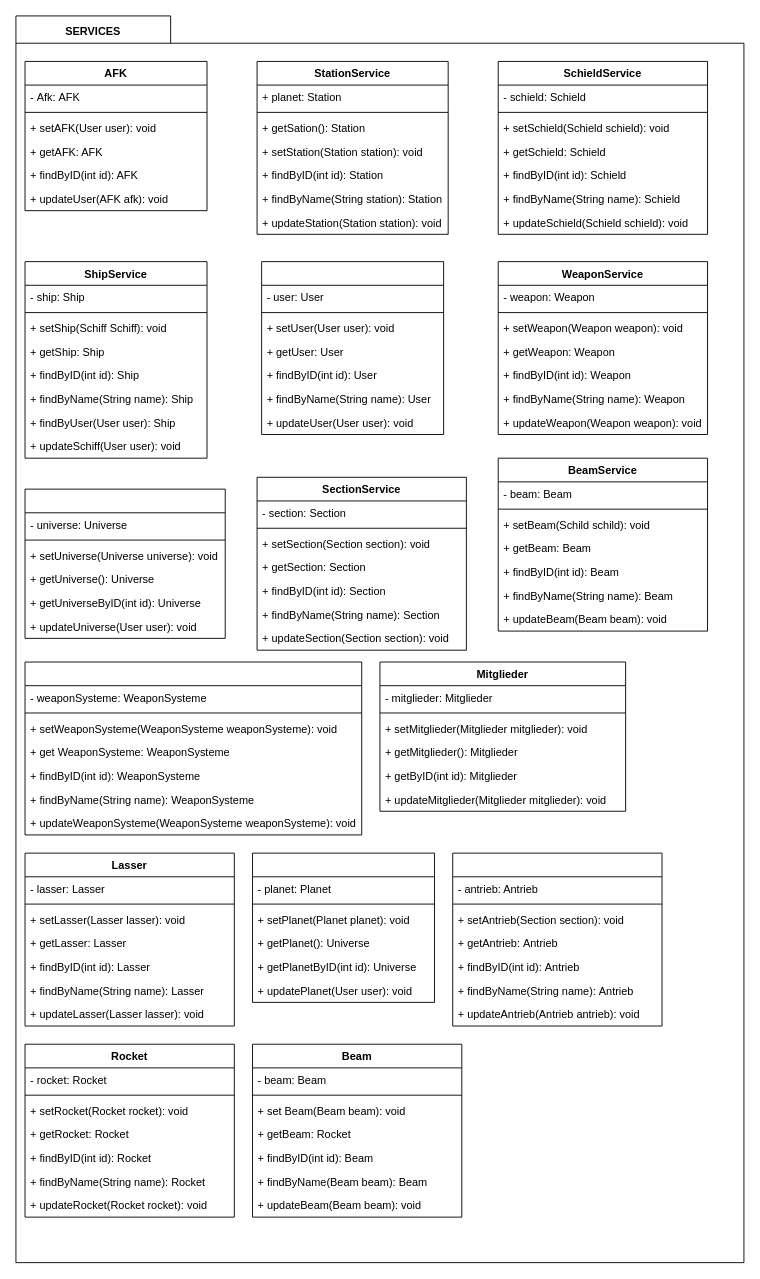
This 760x1279 diagram has some shape labels left out. The box of each missing label's shape, as (x1, y1, x2, y2) in pixels:
AntriebService: (452, 852, 662, 1026)
PlanetService: (252, 852, 435, 1002)
UniverseService: (24, 488, 225, 638)
UserService: (261, 261, 444, 435)
WeaponSystemService: (24, 661, 362, 835)
